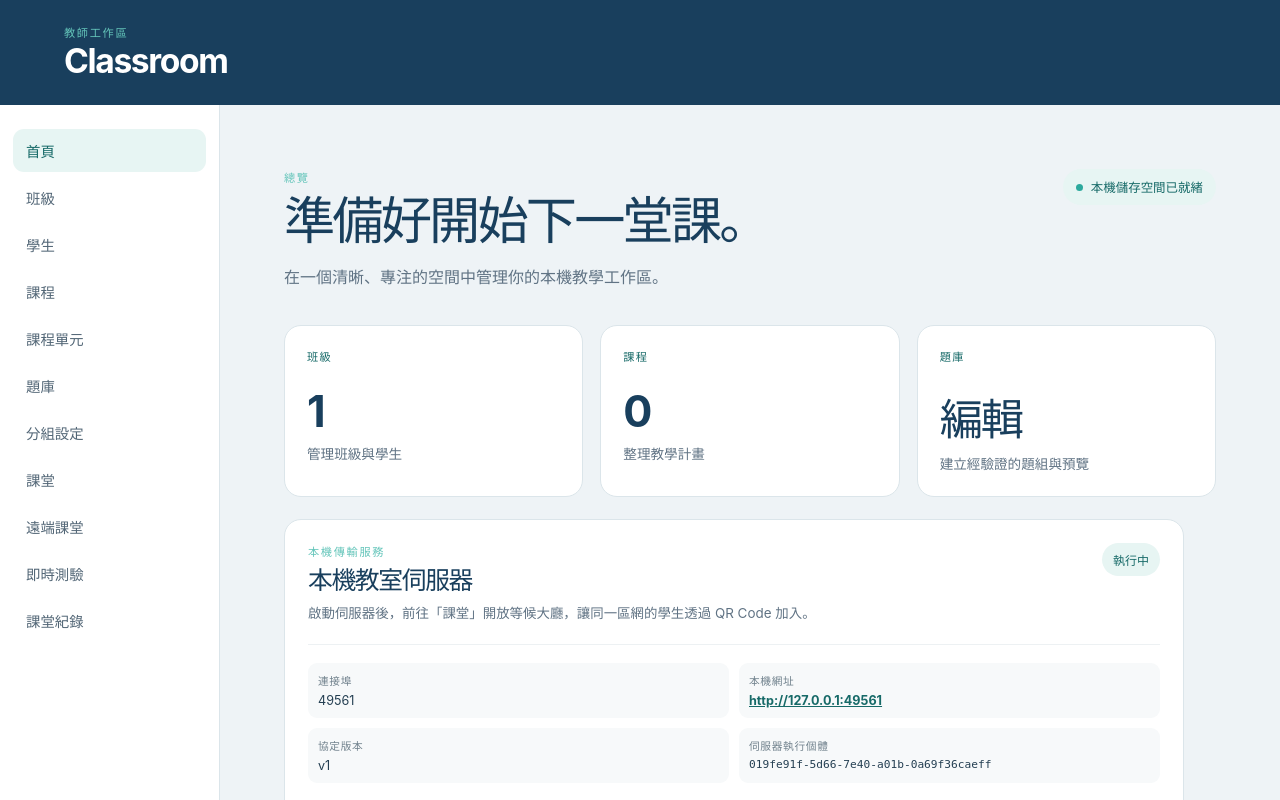
Test case: Teacher basic data workspace › starts from the lobby and rehydrates the same ACTIVE session after navigation
Expected: the text "本機儲存空間已就緒" is shown, [1063,169,1216,205]
What coordinates should you click on to do the following:
click the button "課堂"
I would click on:
 (110, 480)
Its box is [13,458,206,501].
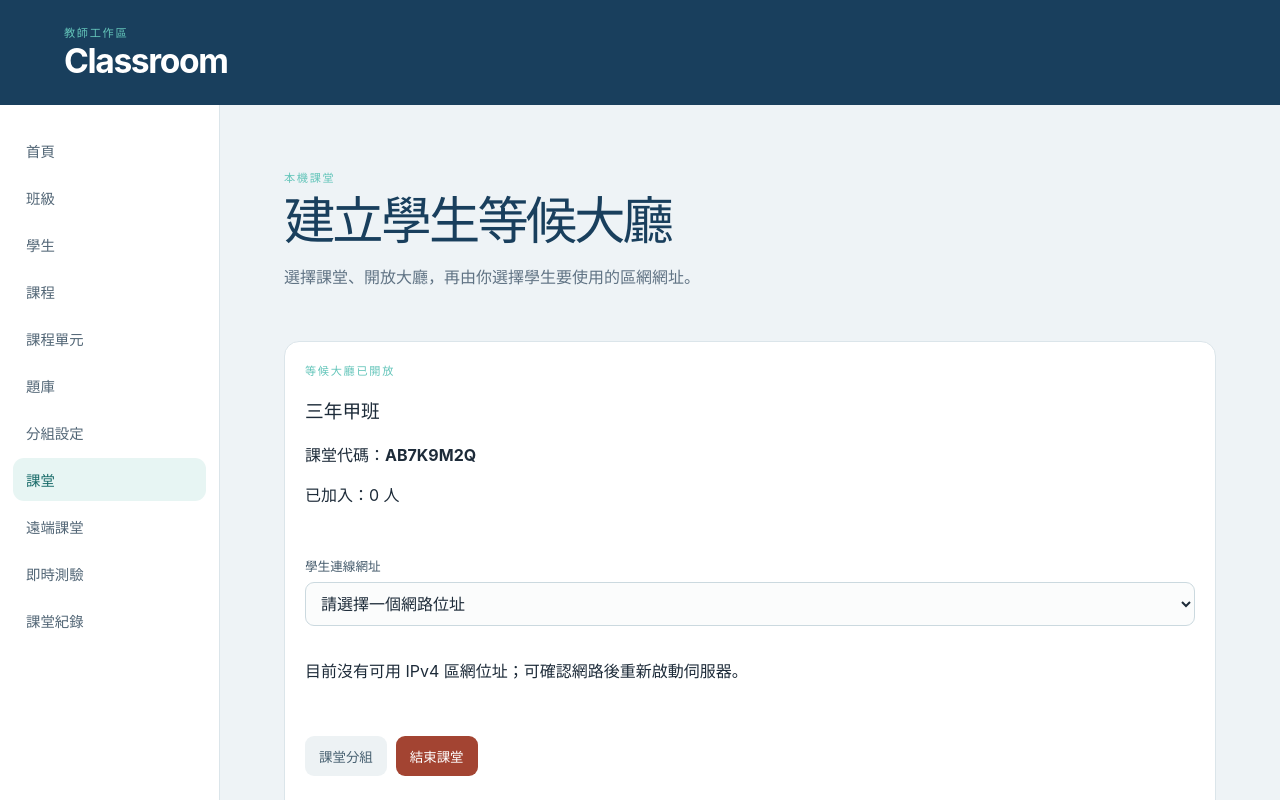
Result: the text "等候大廳已開放" is shown at [305,364,395,378]
What coordinates should you click on to do the following:
click the button "即時測驗"
I would click on:
 (110, 574)
Its box is [13,552,206,595].
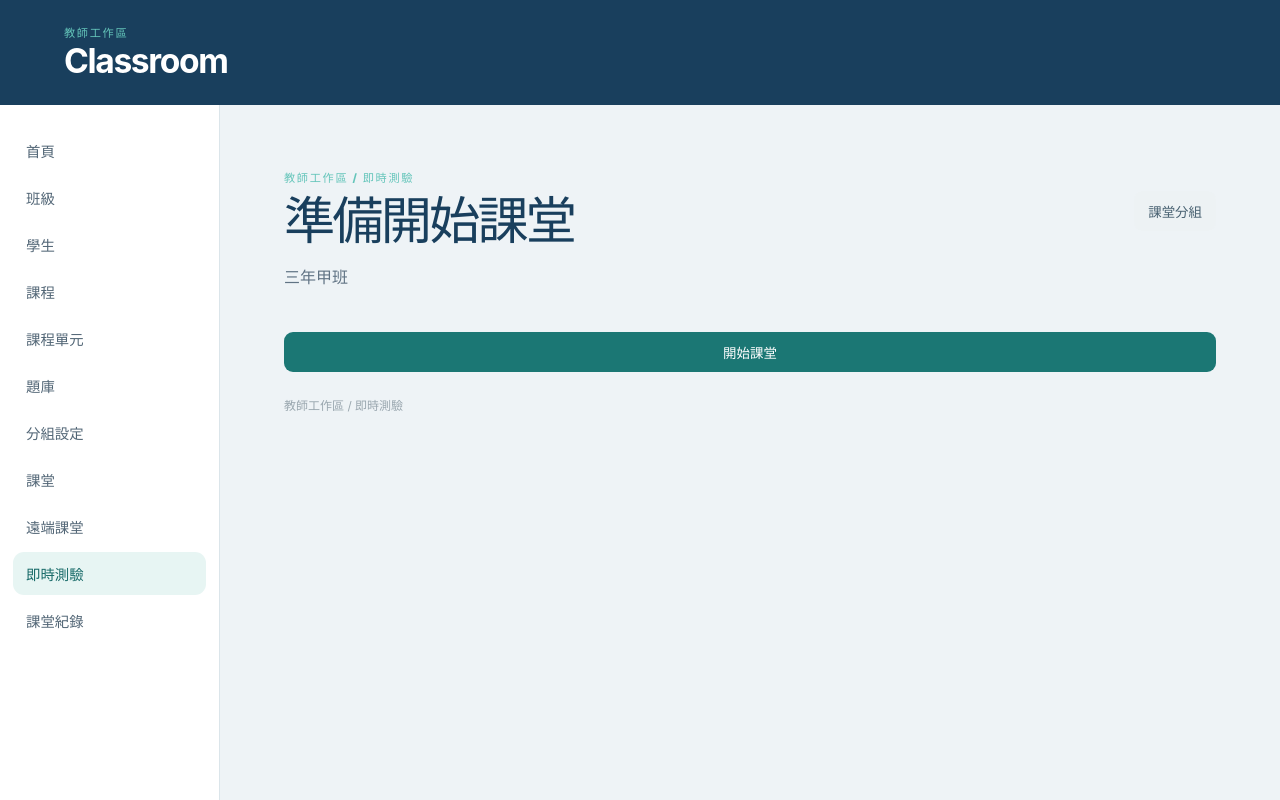
Result: the button "開始課堂" is shown
What coordinates should you click on to do the following:
click the button "開始課堂"
I would click on:
 (750, 352)
Its box is [284,332,1216,372].
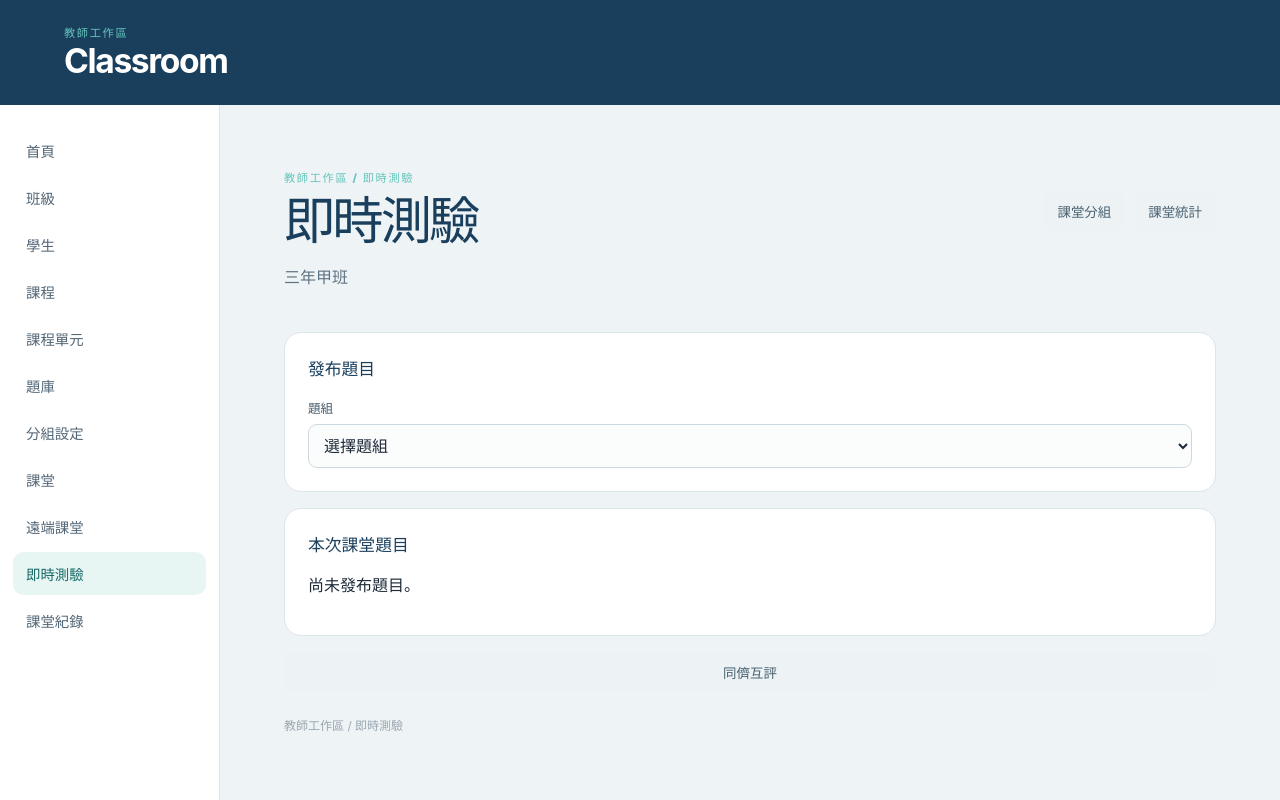
Result: the heading "發布題目" is shown at [308,359,375,379]
What coordinates should you click on to do the following:
click the button "首頁"
I would click on:
 (110, 150)
Its box is [13,129,206,172].
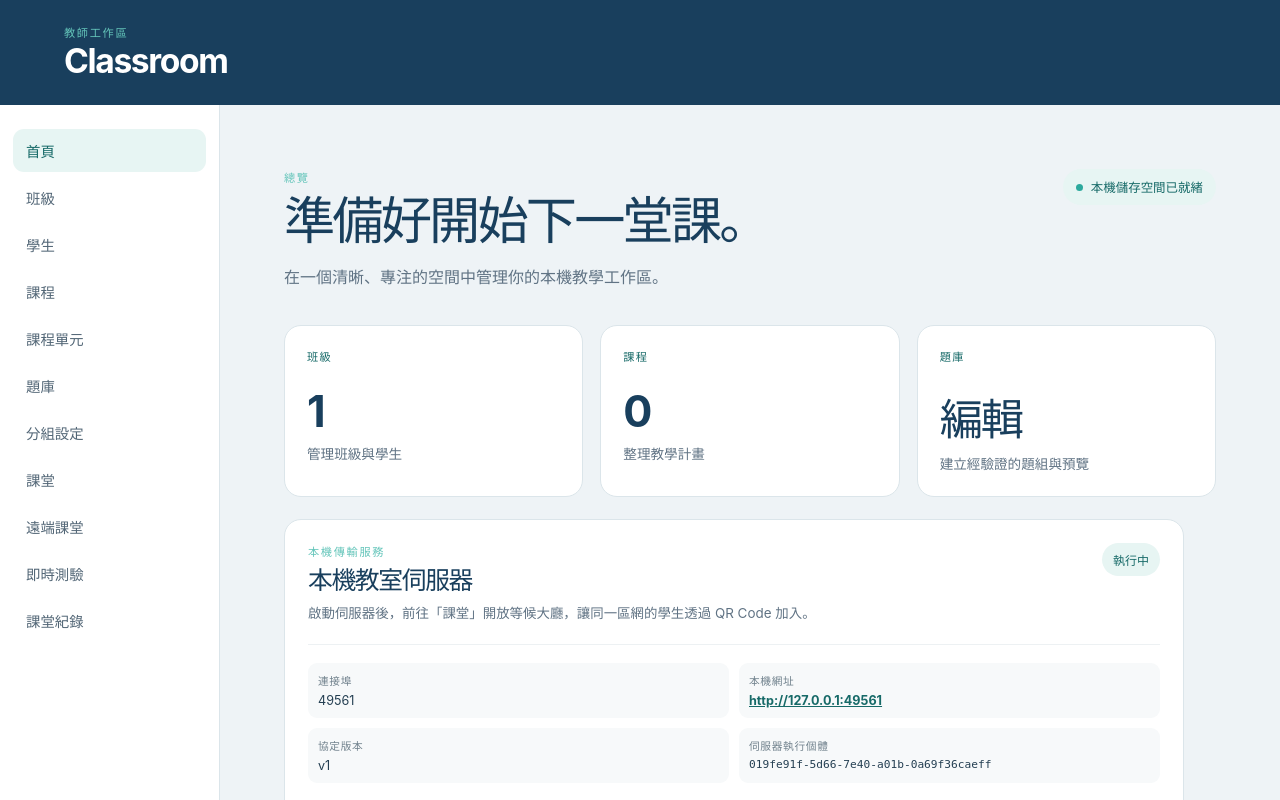
Result: the heading "準備好開始下一堂課。" is shown at [284,194,768,247]
What coordinates should you click on to do the following:
click the button "即時測驗"
I would click on:
 (110, 574)
Its box is [13,552,206,595].
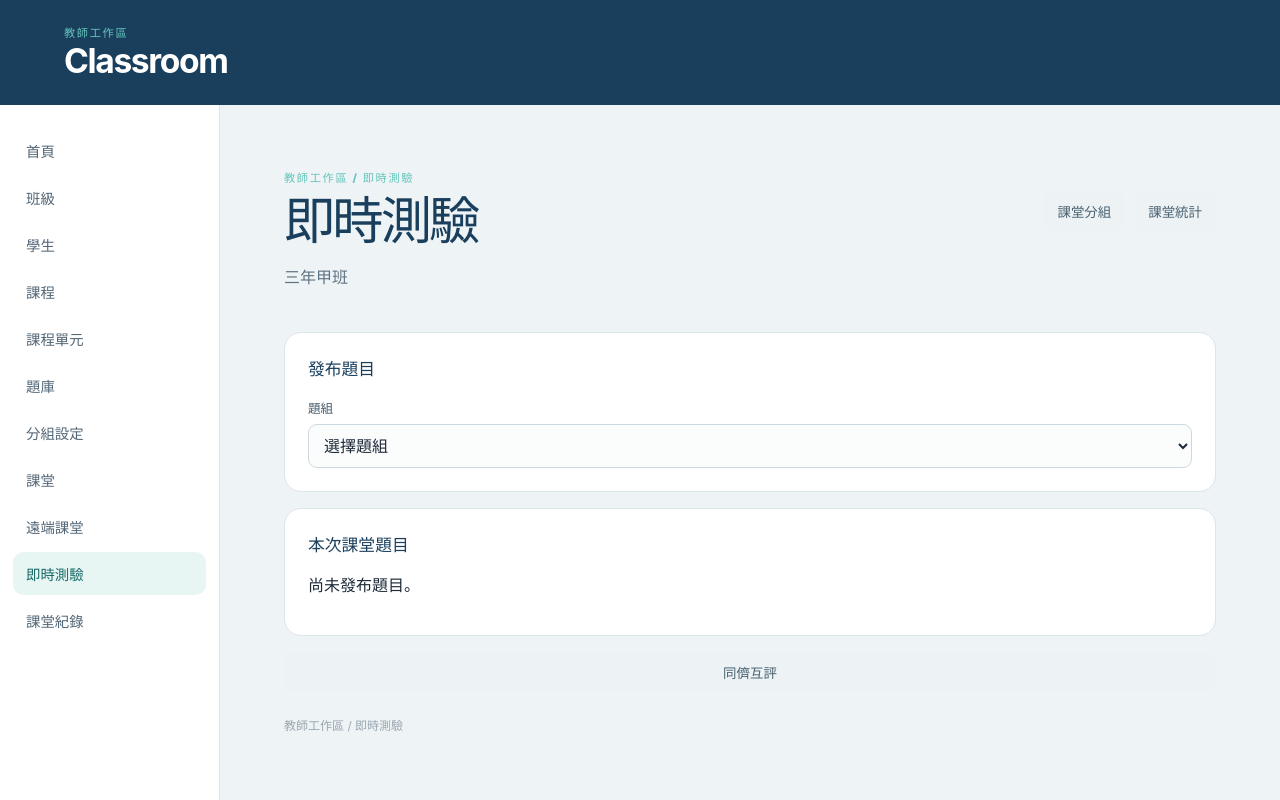
Result: the heading "發布題目" is shown at [308,359,375,379]
